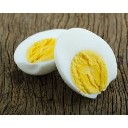begg: (59, 31, 117, 93), (13, 30, 54, 74)
